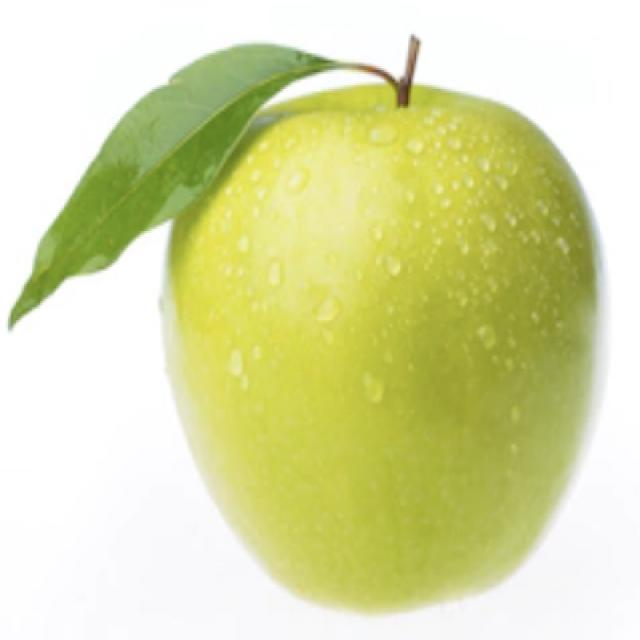Fresh Apple: (152, 87, 563, 590)
